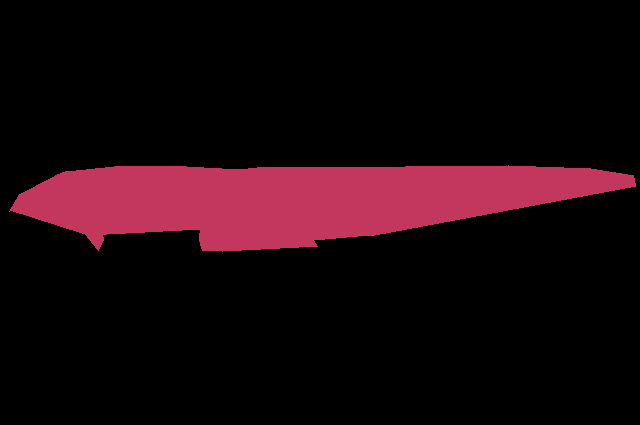Airplane: (9, 165, 635, 251)
